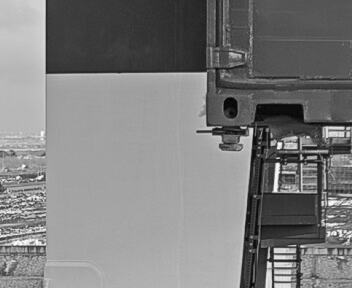twist_lock_1: (206, 121, 253, 157)
